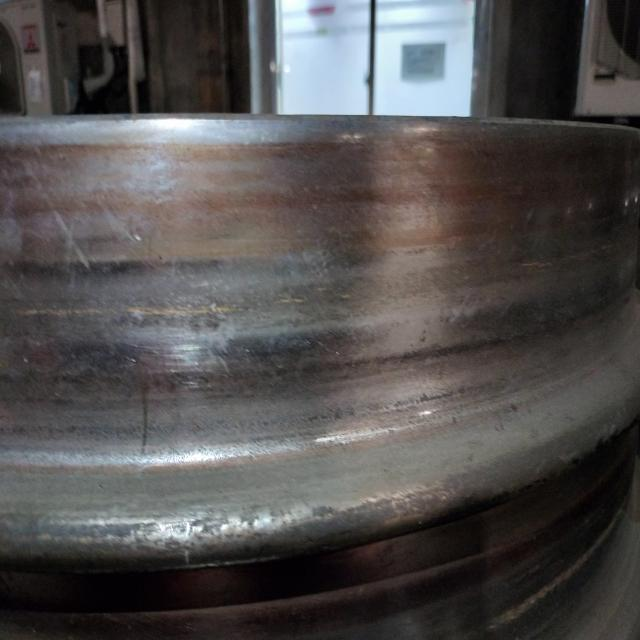Contact_Fatigue_Cracks: (13, 295, 379, 325), (512, 244, 630, 275)
